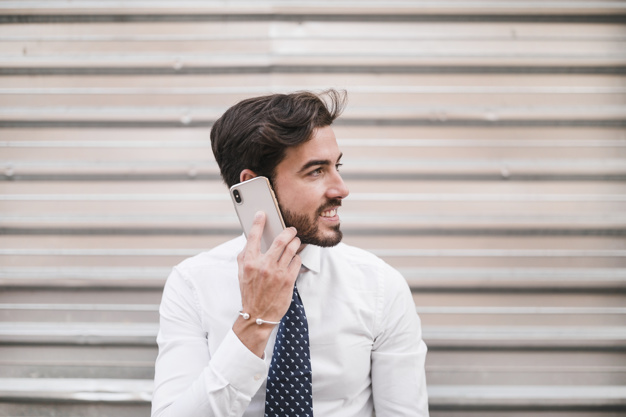phone: (235, 177, 304, 276)
talk: (230, 146, 351, 311)
